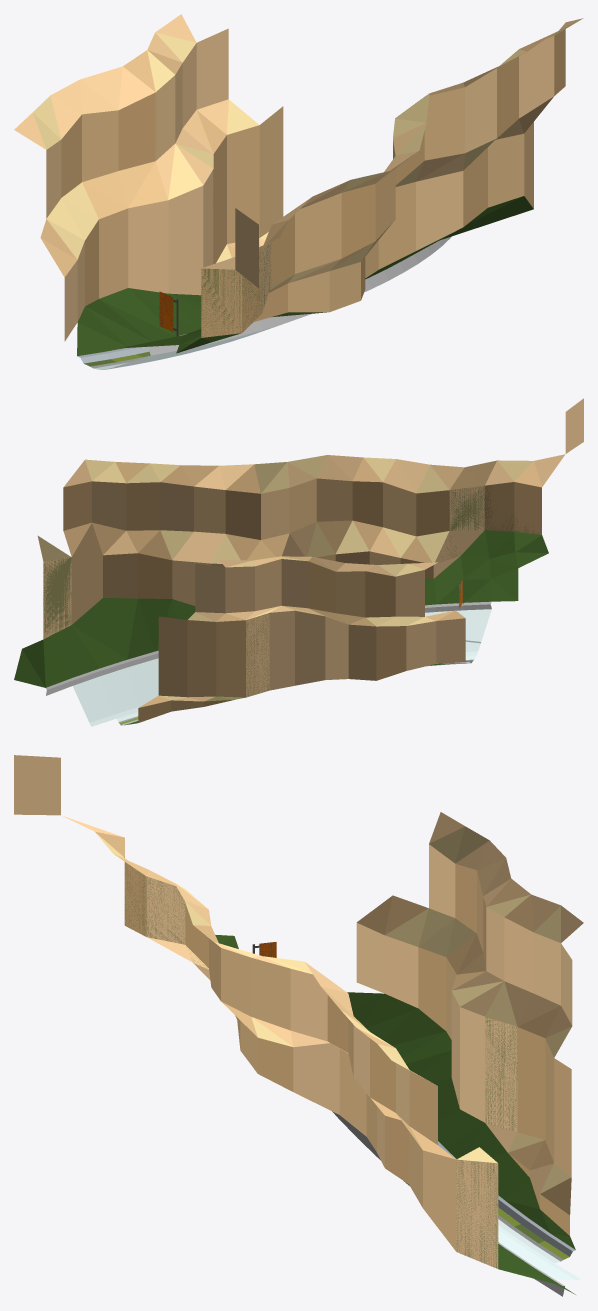
The model's file is export_0003ADD0.obj.
3 views of the same model, one above another, from view 1: azimuth 30°, elevation 25°; view 2: azimuth 150°, elevation 25°; view 3: azimuth 270°, elevation 25° (orthographic). The views are drawn at different scales.
Parts seen in each view (by area): view 1: O3ADD0; view 2: O3ADD0; view 3: O3ADD0.
Part boxes in pixels (x1=…): O3ADD0: x1=14, y1=14, x2=583, y2=369; O3ADD0: x1=14, y1=398, x2=583, y2=726; O3ADD0: x1=14, y1=755, x2=583, y2=1296.
Bounding box in the file's own units: 137 × 82.41 × 127.
